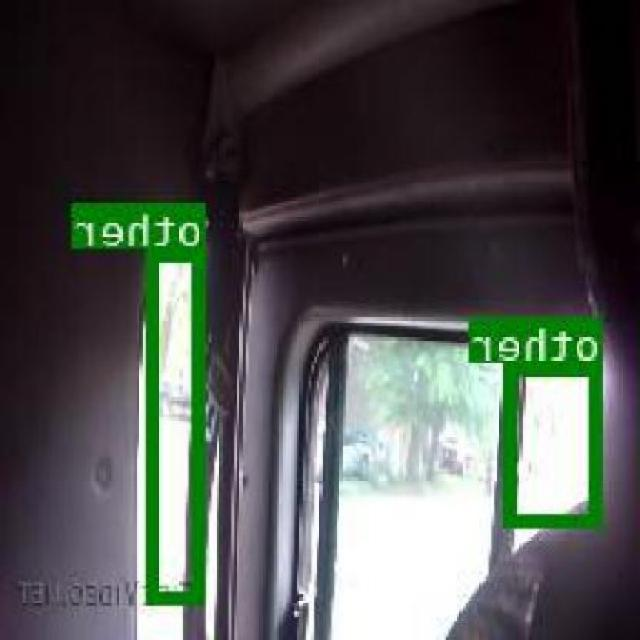other: (148, 248, 207, 602), (508, 360, 604, 526)
